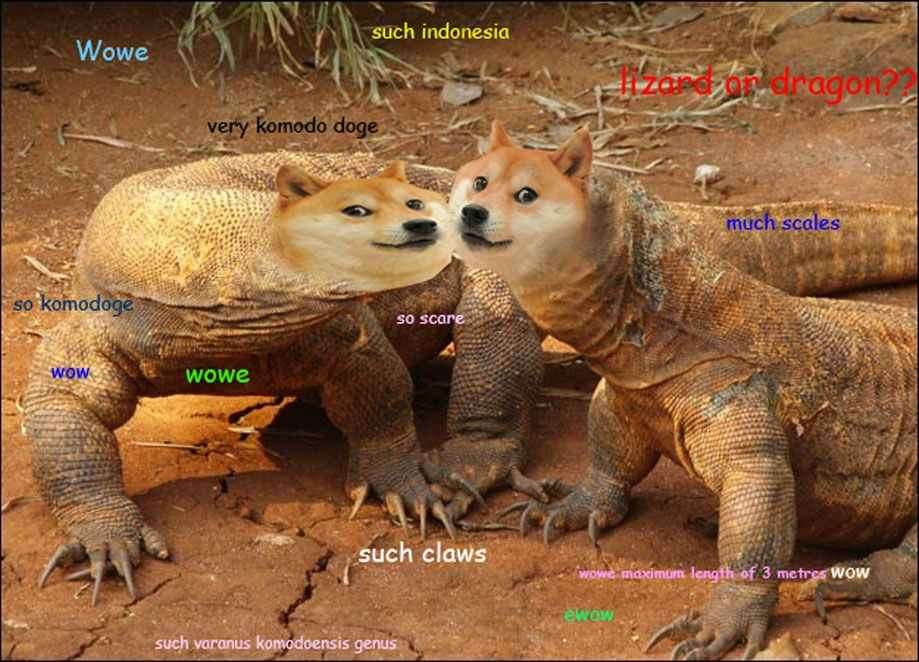doge: (451, 114, 607, 270), (268, 162, 453, 291)
